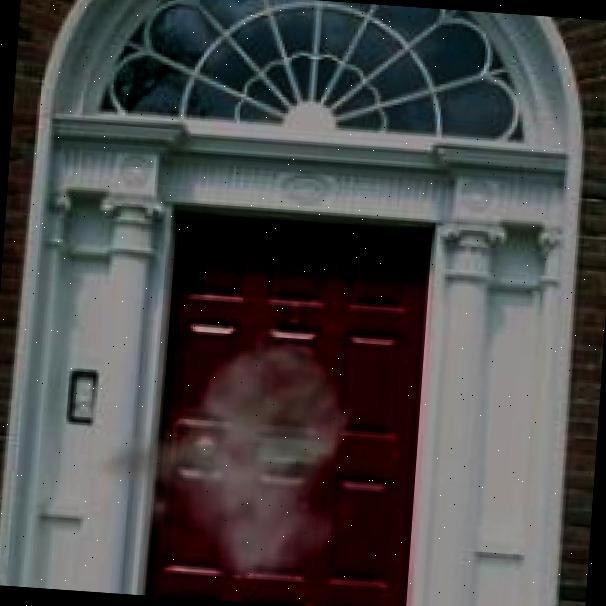smoke: (87, 305, 386, 604)
